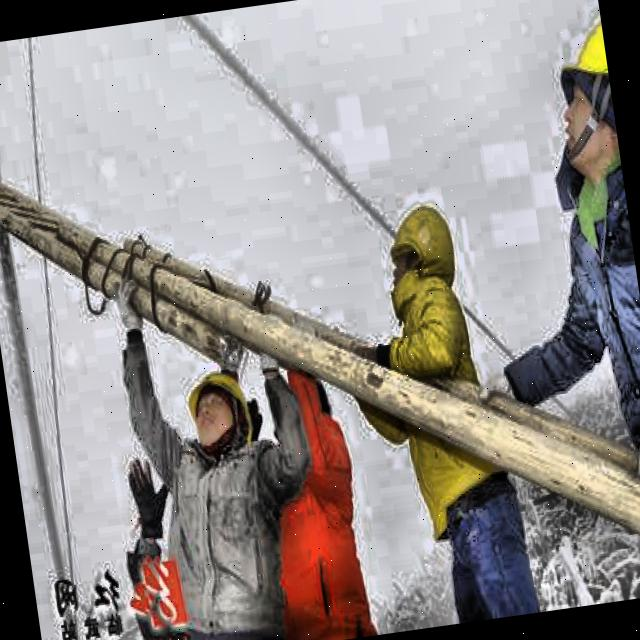helmet: (538, 16, 622, 191), (377, 194, 467, 314), (176, 352, 261, 463)
